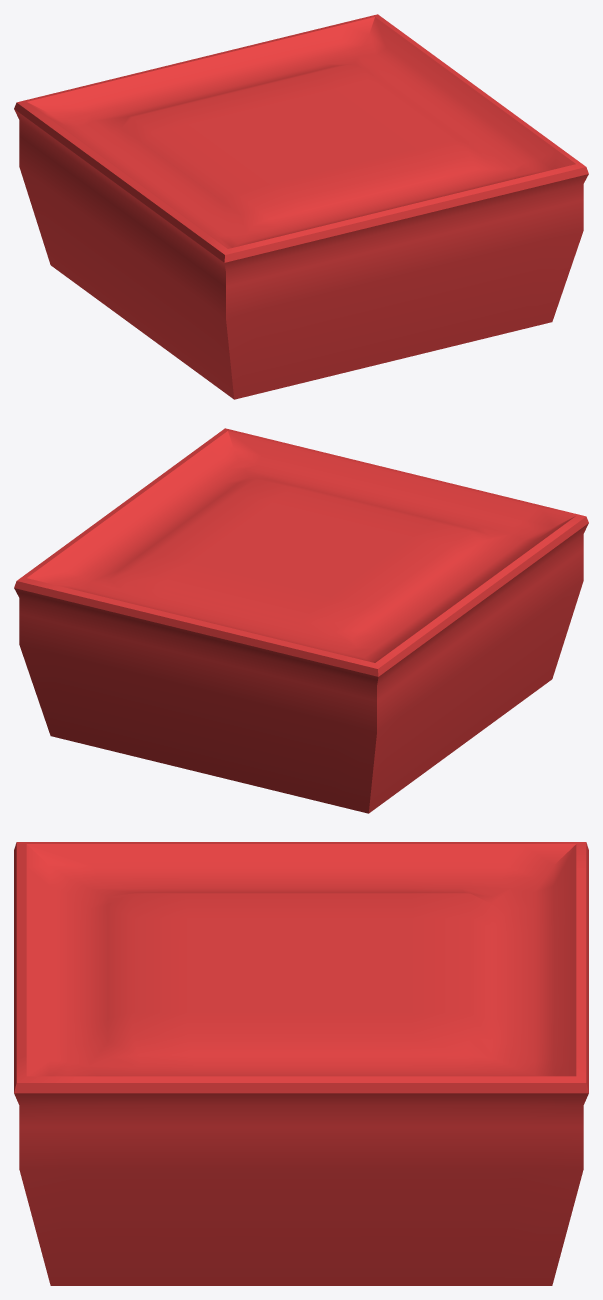
The model's file is Dropper.fbx.
The picture shows the model from 3 angles, top to bottom: view 1: azimuth 30°, elevation 25°; view 2: azimuth 150°, elevation 25°; view 3: azimuth 270°, elevation 25°; orthographic projection. The views are drawn at different scales.
Parts seen in each view (by area): view 1: pCube1; view 2: pCube1; view 3: pCube1.
Part boxes in pixels (x1,y1,x2,y2): pCube1: (14, 14, 588, 399); pCube1: (14, 428, 588, 813); pCube1: (14, 842, 588, 1285).
Bounding box in the file's own units: 2.04 × 0.8588 × 2.04.
